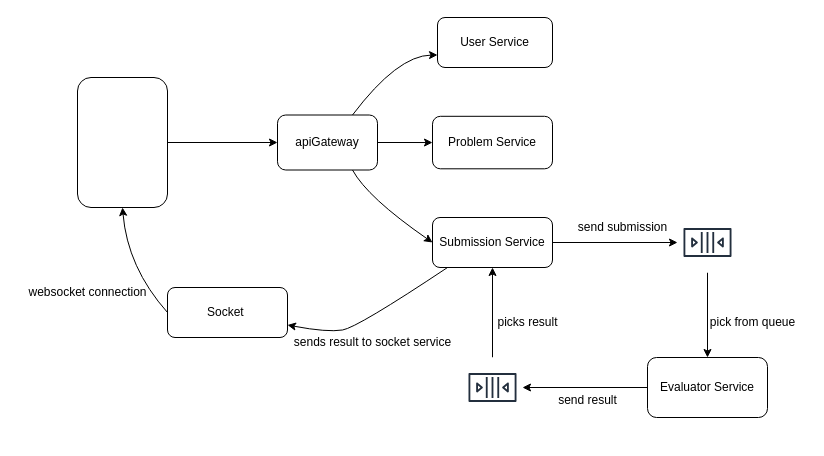
Image size: 824x456. Some labels were removed from this diagram. Here are the shapes that lost their labels. From the top down, the centre of each, then its label:
the point at 122,142: Frontend
the point at 707,242: Submission Queue
the point at 492,387: Evaluation queue
